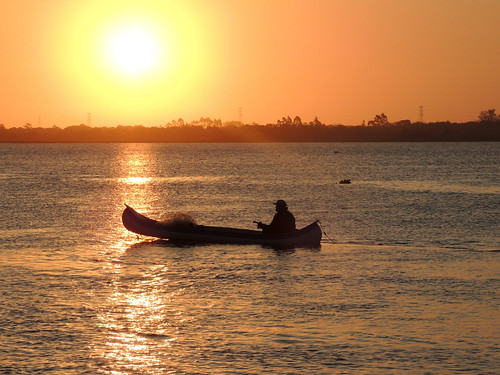boat: (102, 196, 331, 255)
sea: (4, 144, 500, 375)
sky: (1, 1, 497, 115)
sun: (102, 17, 181, 94)
